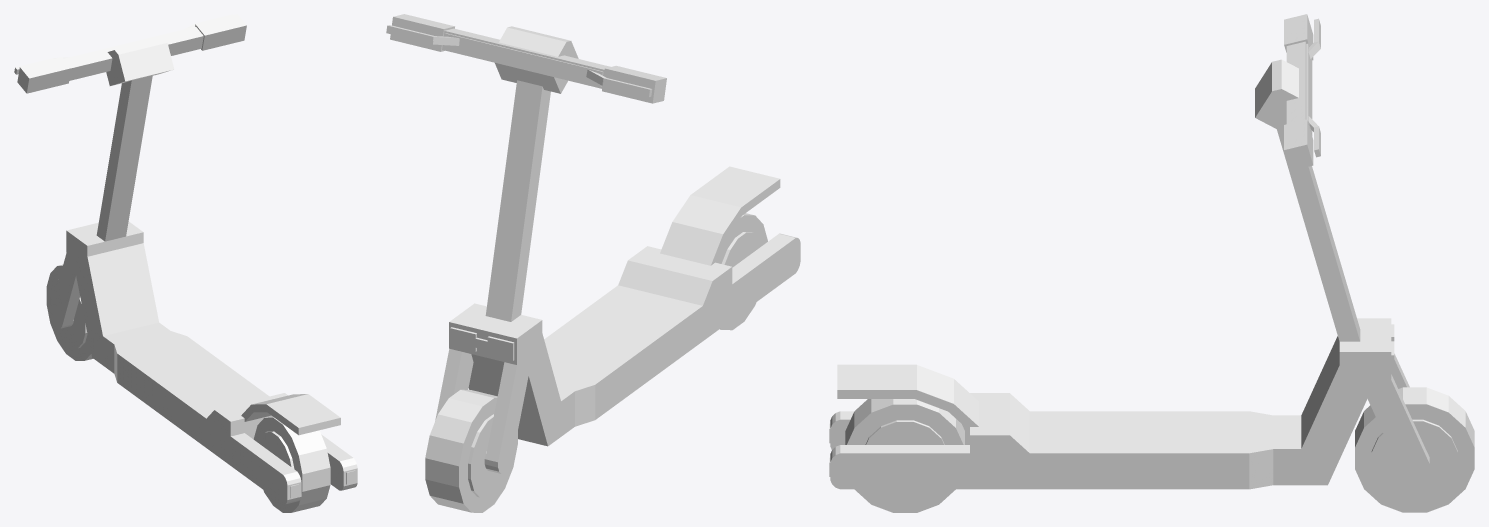
3 views of the same model, side by side, from view 1: azimuth 30°, elevation 25°; view 2: azimuth 150°, elevation 25°; view 3: azimuth 270°, elevation 25° (orthographic). The views are drawn at different scales.
Visible parts, largest first — view 1: cube_81, cube_90, cube_92, cube_123, cube_93, cube_88, cube_84, cube_101, cube_91, cube_95, cube_107, cube_96 (+6 smaller); view 2: cube_81, cube_92, cube_90, cube_123, cube_91, cube_107, cube_89, cube_94, cube_88, cube_86, cube_85, cube_87 (+17 smaller); view 3: cube_81, cube_108, cube_90, cube_92, cube_84, cube_106, cube_88, cube_91, cube_85, cube_101, cube_87, cube_96 (+21 smaller).
Part boxes in pixels (<box>): cube_81: <box>117,336,269,465</box>; cube_90: <box>72,243,158,357</box>; cube_92: <box>96,75,152,241</box>; cube_123: <box>230,433,296,503</box>; cube_93: <box>64,26,203,80</box>; cube_88: <box>266,394,340,435</box>; cube_84: <box>92,322,179,373</box>; cube_101: <box>106,43,174,85</box>; cube_91: <box>66,221,143,266</box>; cube_95: <box>17,57,71,93</box>; cube_107: <box>52,239,80,323</box>; cube_96: <box>195,14,246,50</box>; cube_81: <box>544,285,732,419</box>; cube_92: <box>485,80,550,321</box>; cube_90: <box>468,333,560,446</box>; cube_123: <box>732,234,795,319</box>; cube_91: <box>449,303,542,364</box>; cube_107: <box>486,342,532,456</box>; cube_89: <box>618,260,716,312</box>; cube_94: <box>443,33,603,86</box>; cube_88: <box>691,166,780,215</box>; cube_86: <box>660,222,726,265</box>; cube_85: <box>628,246,732,298</box>; cube_87: <box>672,195,741,238</box>; cube_81: <box>970,411,1249,489</box>; cube_108: <box>840,445,969,489</box>; cube_90: <box>1301,336,1376,484</box>; cube_92: <box>1277,129,1360,341</box>; cube_84: <box>1249,415,1327,485</box>; cube_106: <box>1367,368,1427,469</box>; cube_88: <box>837,364,916,398</box>; cube_91: <box>1339,318,1391,379</box>; cube_85: <box>970,393,1009,453</box>; cube_101: <box>1255,62,1288,132</box>; cube_87: <box>913,365,953,411</box>; cube_96: <box>1284,119,1313,170</box>.
Size of the model in its own units: 96.88 by 149 by 202.
Materials: 3 (3 with a texture image).
